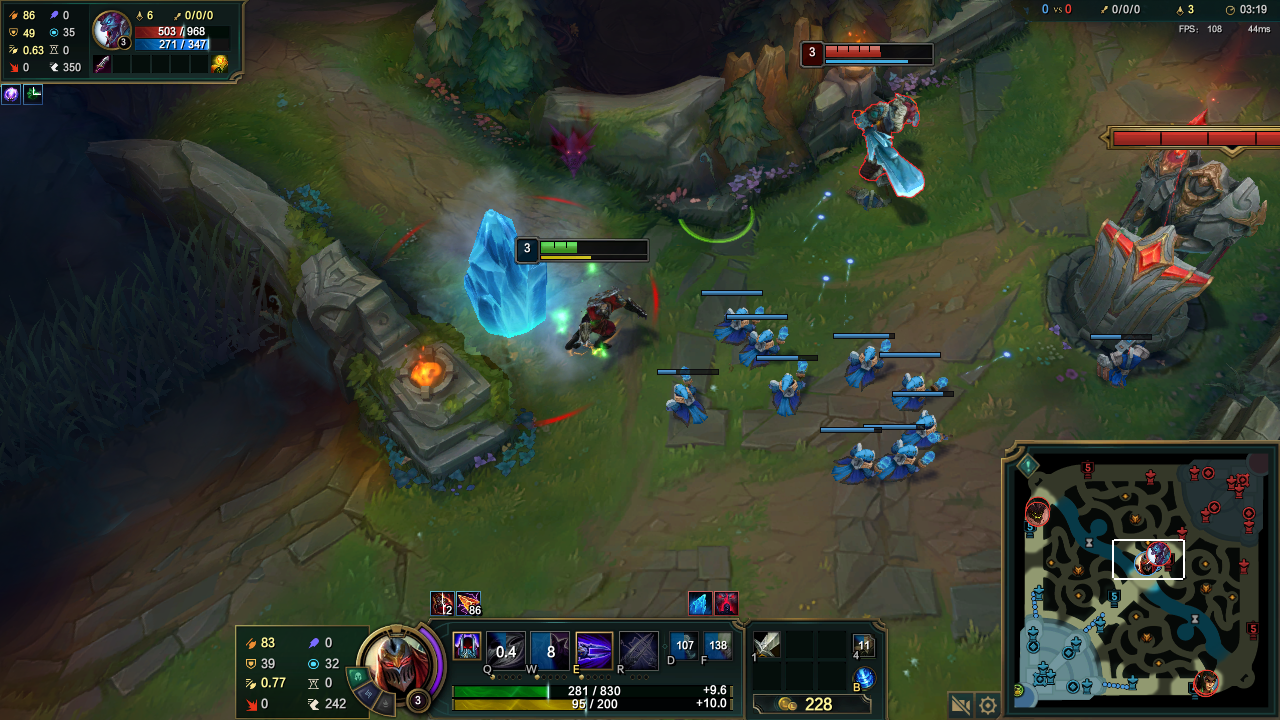DFYX: (826, 44, 932, 55)
